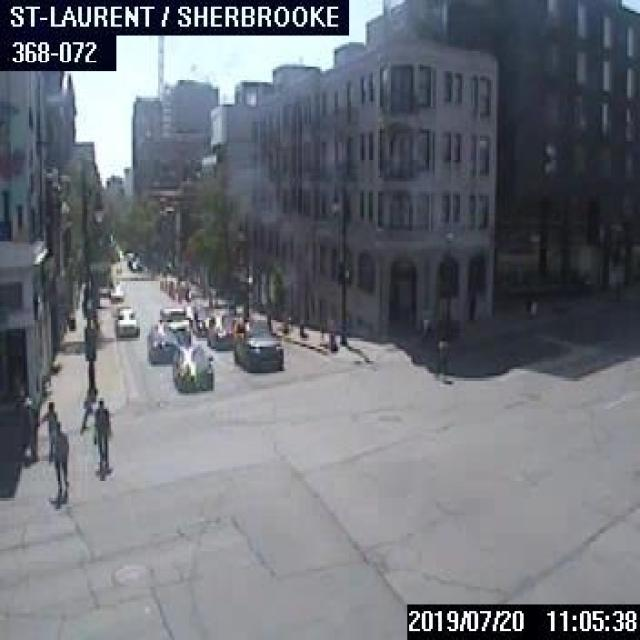construction: (326, 316, 335, 348)
pedestrian: (48, 422, 68, 500), (91, 396, 109, 471), (39, 399, 56, 460), (435, 331, 447, 378)
vehicle: (232, 315, 282, 368), (171, 343, 211, 391), (145, 322, 183, 363), (205, 309, 238, 348), (158, 305, 190, 343), (189, 300, 215, 334), (113, 306, 138, 336), (108, 282, 122, 300)
